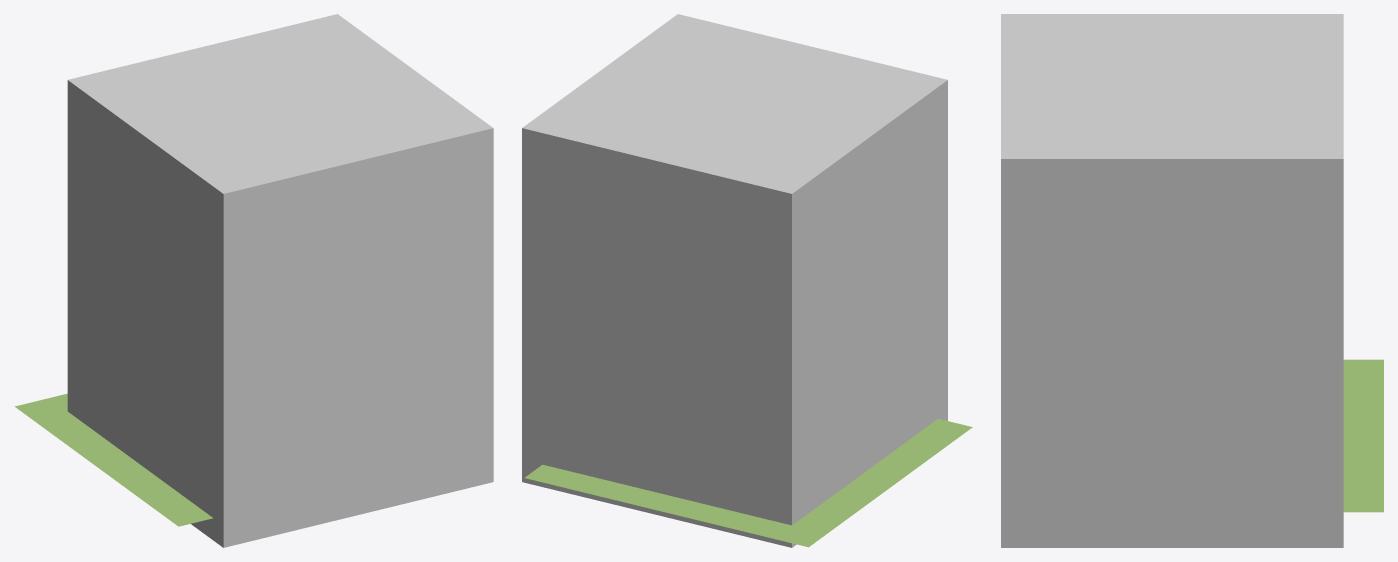
The model's file is fire_BLENDER-v276.glb.
3 views of the same model, side by side, from view 1: azimuth 30°, elevation 25°; view 2: azimuth 150°, elevation 25°; view 3: azimuth 270°, elevation 25° (orthographic). The views are drawn at different scales.
Parts seen in each view (by area): view 1: Smoke Domain, Ground; view 2: Smoke Domain, Ground; view 3: Smoke Domain, Ground.
Boxes of the visible parts, box(x1,y1,x2,y2) form: Smoke Domain: box(67, 14, 493, 547); Ground: box(14, 393, 212, 526); Smoke Domain: box(522, 14, 947, 547); Ground: box(525, 418, 972, 547); Smoke Domain: box(1001, 14, 1343, 547); Ground: box(1343, 359, 1383, 512).
Size of the model in its own units: 2.14 by 2.61 by 2.12.
